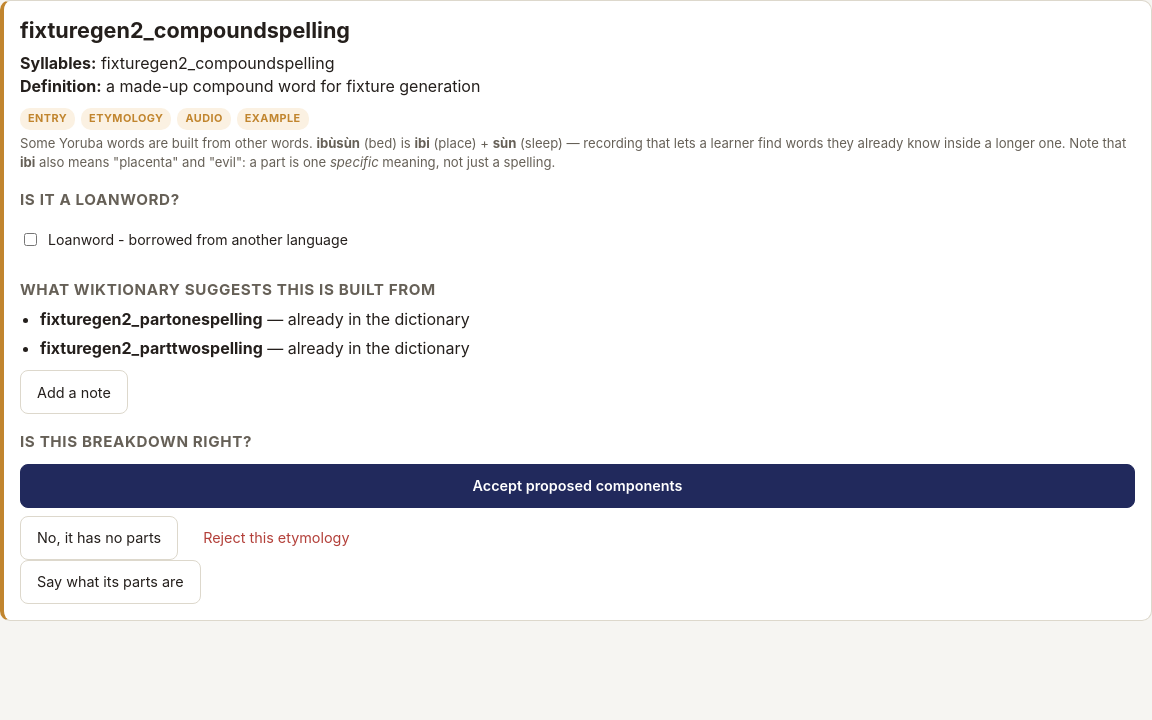
Test: EtymologyReview › rejects the proposed etymology
Expected: the heading "fixturegen2_compoundspelling" is shown, [20, 17, 350, 43]
Click the button "Reject this etymology": click(276, 538) [186, 516, 367, 560]
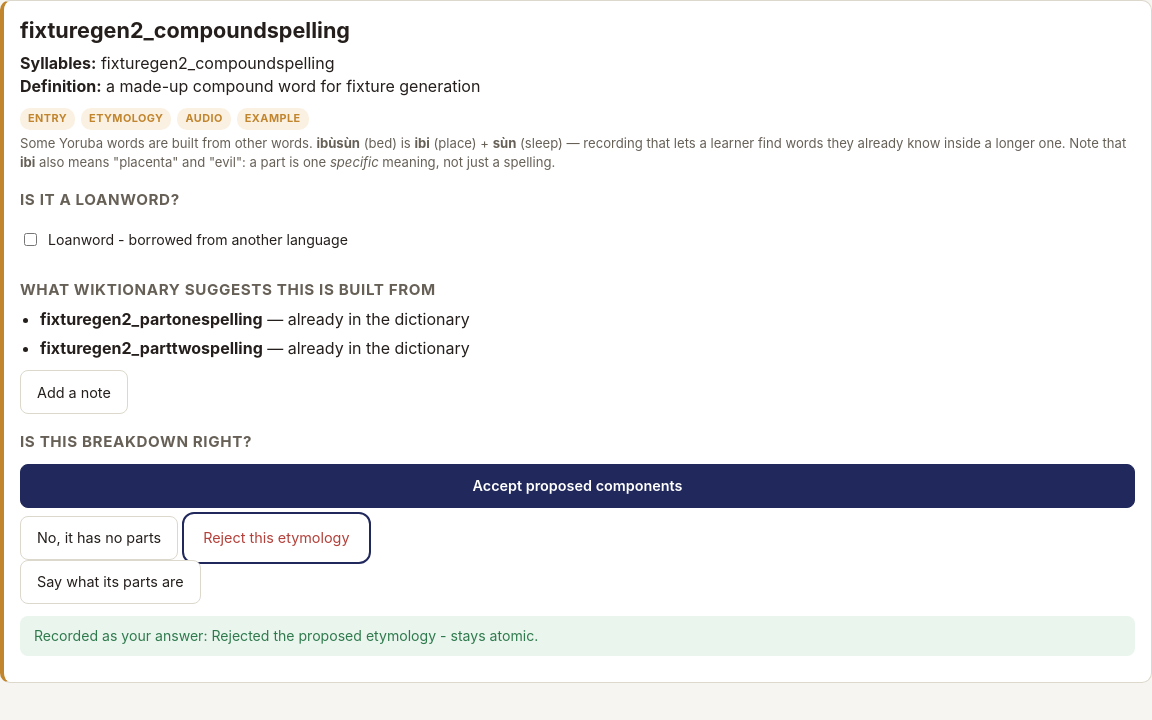
Result: the message shows "Rejected the proposed etymology - stays atomic." at [34, 627, 538, 644]
